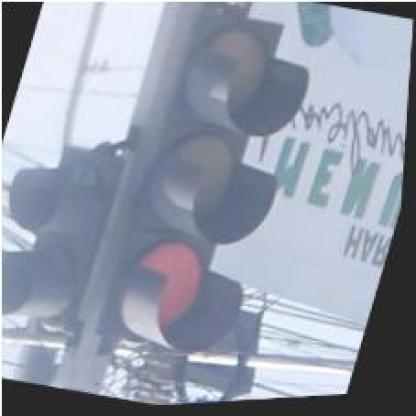red: (93, 3, 324, 371)
